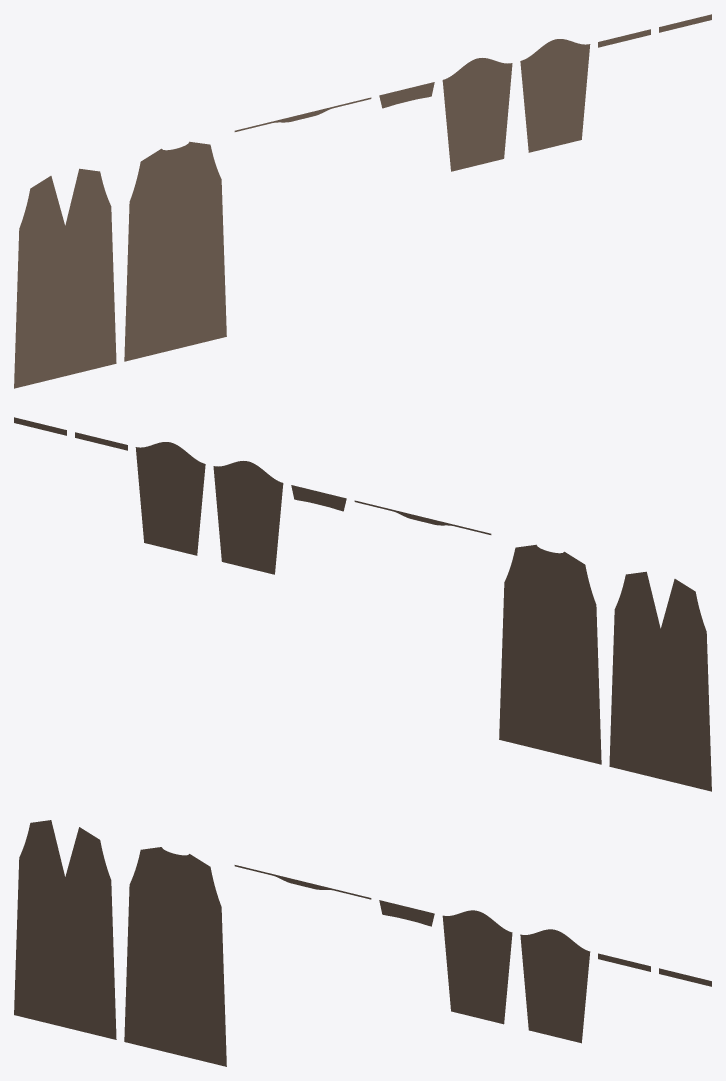
File: abrigo-lana-cruzado-talla-L.glb
The picture shows the model from 3 angles, top to bottom: view 1: azimuth 30°, elevation 25°; view 2: azimuth 150°, elevation 25°; view 3: azimuth 330°, elevation 25°; orthographic projection.
Parts seen in each view (by area): view 1: patron-espalda, patron-delantero, patron-manga-der, patron-manga-izq, patron-cuello-hoja; view 2: patron-espalda, patron-delantero, patron-manga-der, patron-manga-izq, patron-cuello-hoja; view 3: patron-espalda, patron-delantero, patron-manga-izq, patron-manga-der, patron-cuello-hoja, patron-cuello-pie.
Boxes of the visible parts, x1=… form: patron-espalda: x1=124, y1=141, x2=226, y2=361; patron-delantero: x1=14, y1=168, x2=116, y2=388; patron-manga-der: x1=520, y1=39, x2=590, y2=152; patron-manga-izq: x1=442, y1=58, x2=512, y2=171; patron-cuello-hoja: x1=379, y1=82, x2=434, y2=108; patron-espalda: x1=499, y1=544, x2=601, y2=764; patron-delantero: x1=609, y1=571, x2=711, y2=791; patron-manga-der: x1=135, y1=442, x2=205, y2=555; patron-manga-izq: x1=213, y1=461, x2=283, y2=574; patron-cuello-hoja: x1=291, y1=485, x2=346, y2=511; patron-espalda: x1=124, y1=847, x2=226, y2=1066; patron-delantero: x1=14, y1=820, x2=116, y2=1039; patron-manga-izq: x1=442, y1=910, x2=512, y2=1024; patron-manga-der: x1=520, y1=929, x2=590, y2=1043; patron-cuello-hoja: x1=379, y1=900, x2=434, y2=926; patron-cuello-pie: x1=234, y1=865, x2=371, y2=899.
Bounding box in the file's own units: 4.47 × 1.33 × 0.
